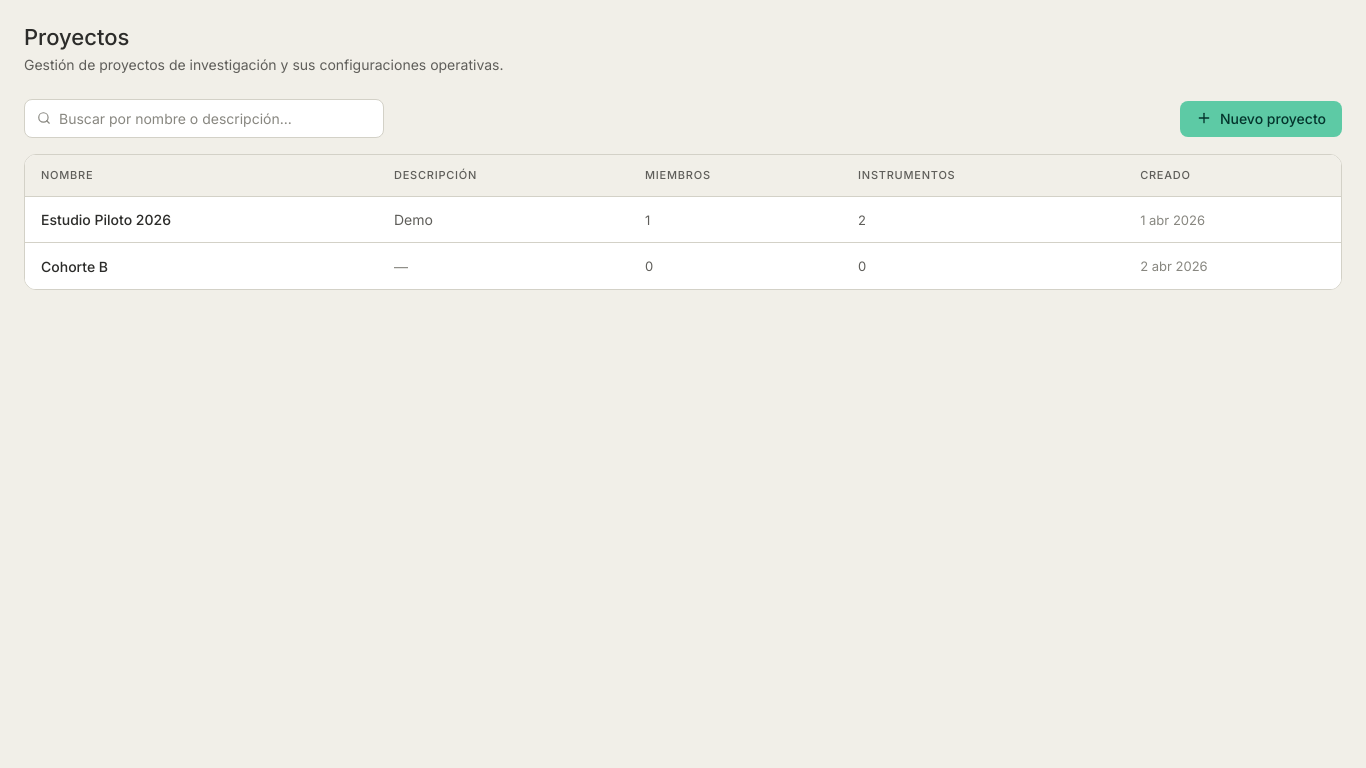
Test: ProjectsPage › seleccionar defaults + nombre → POST /projects y aparece en lista
Expected: the text "Estudio Piloto 2026" is shown, x1=41 y1=211 x2=171 y2=228
Click the button "Nuevo proyecto" at (1261, 119), box x1=1180 y1=101 x2=1342 y2=137
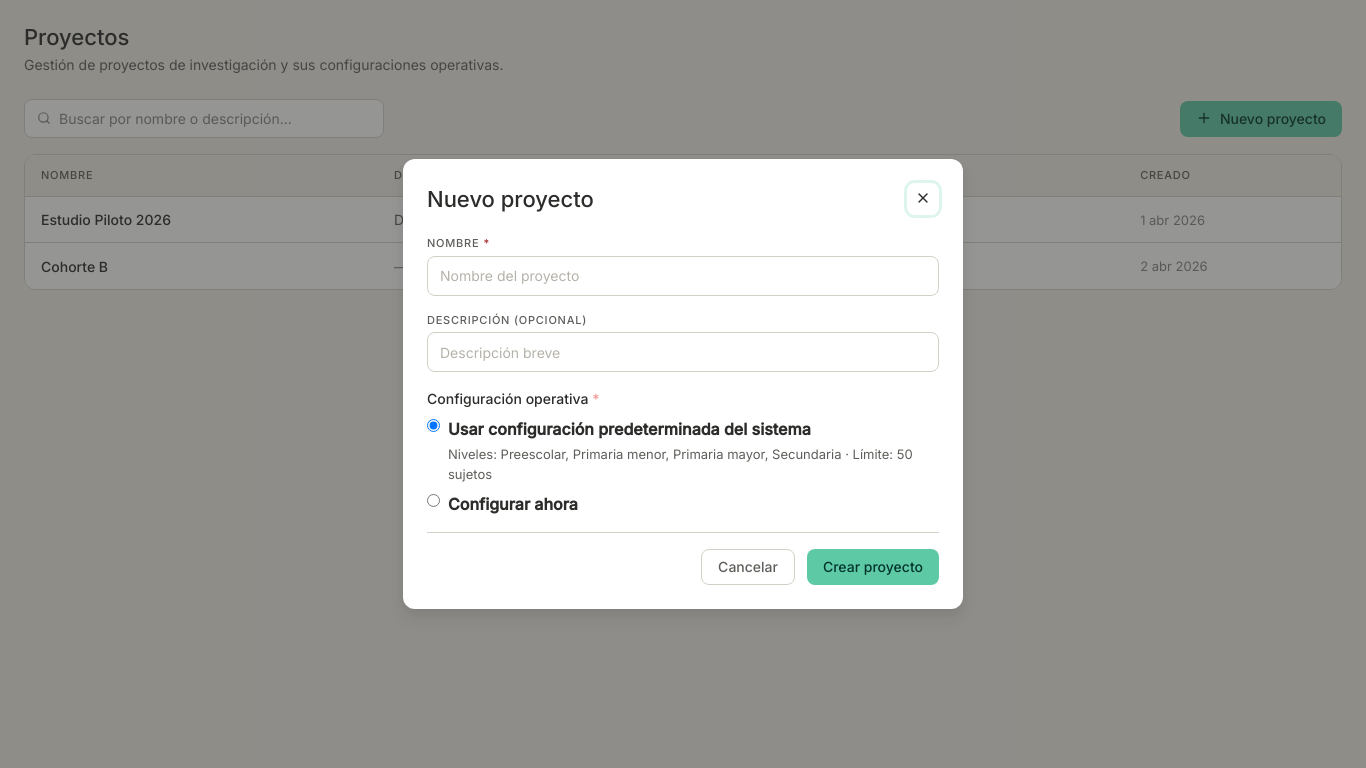
Now the dialog is shown, box x1=403 y1=159 x2=963 y2=609
Type "Test Proj" into the field labelled "Nombre*" at (683, 276), box x1=427 y1=256 x2=939 y2=296
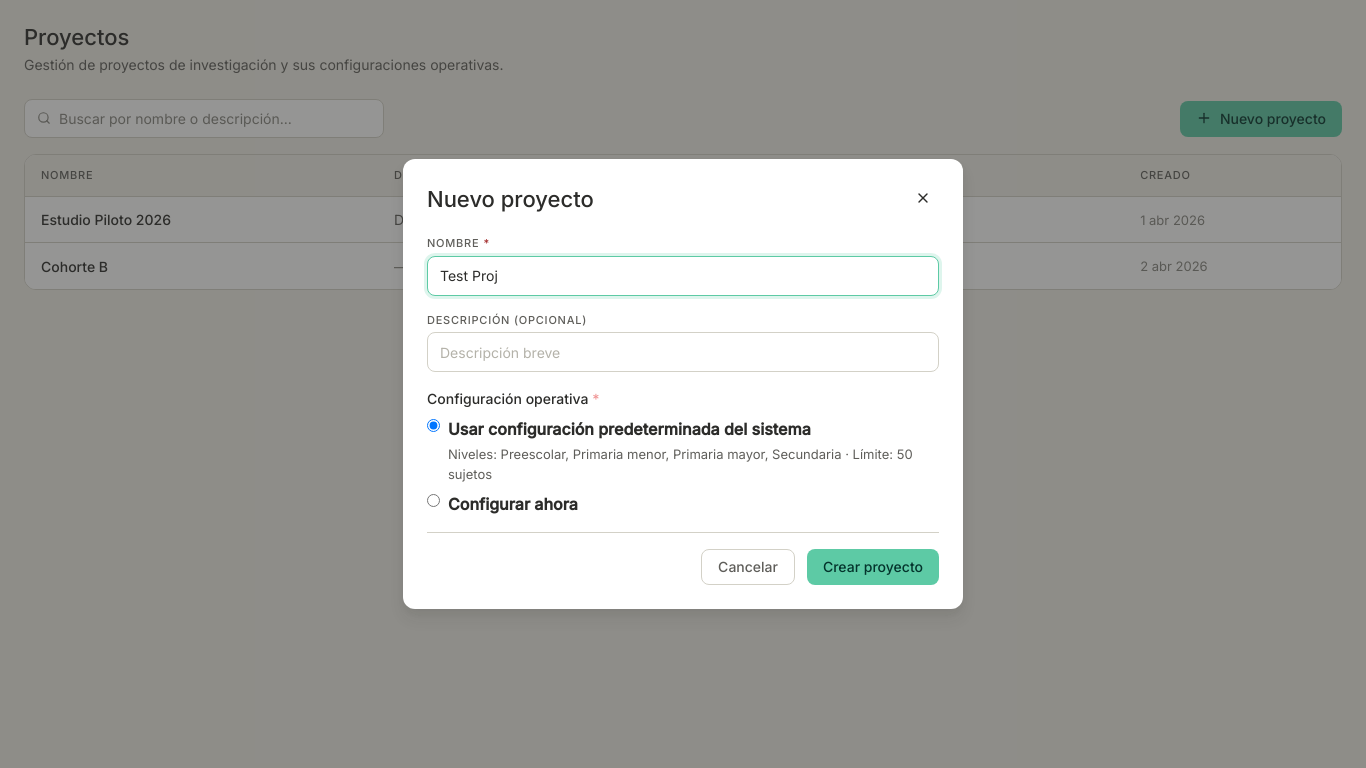
Click the radio button labelled "Usar configuración predeterminada" at (434, 426), box x1=427 y1=419 x2=440 y2=432
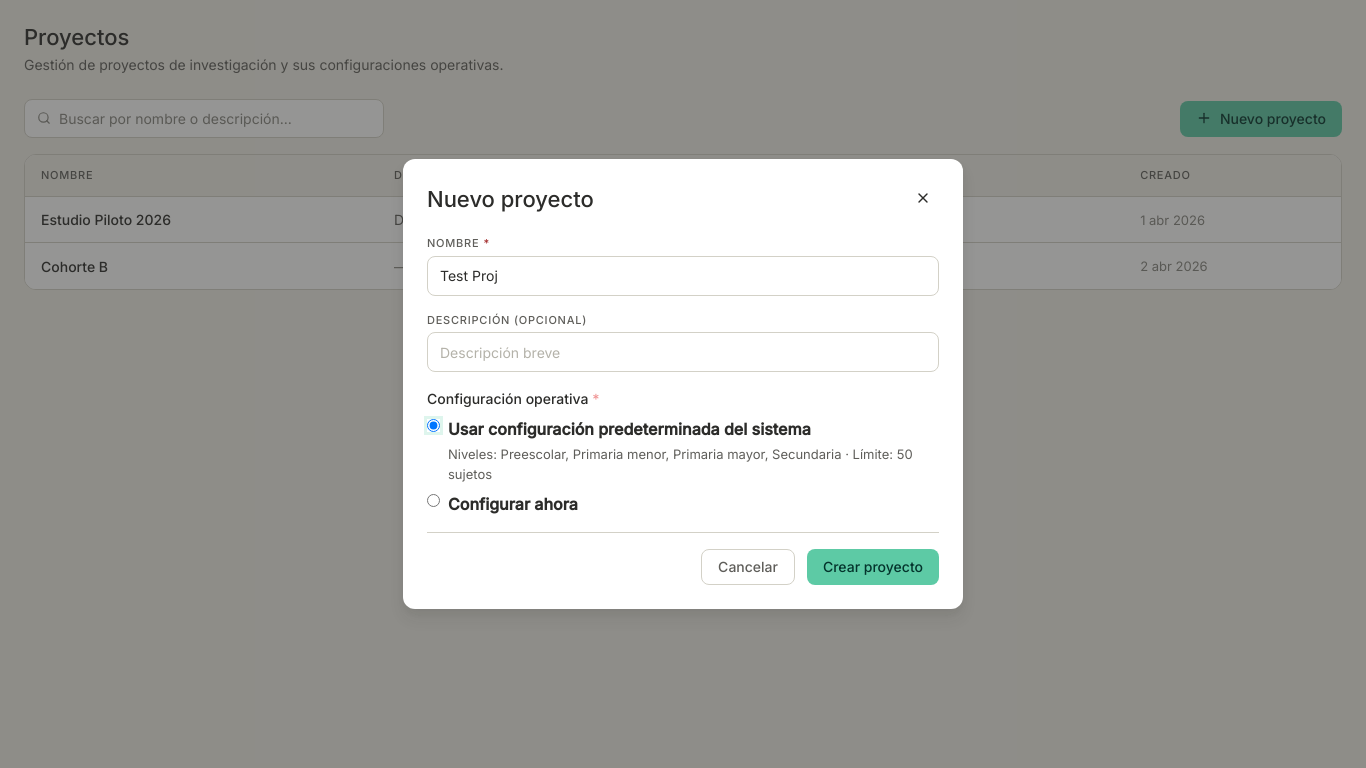
Click the button "Crear proyecto" at (873, 567), box x1=807 y1=549 x2=939 y2=585
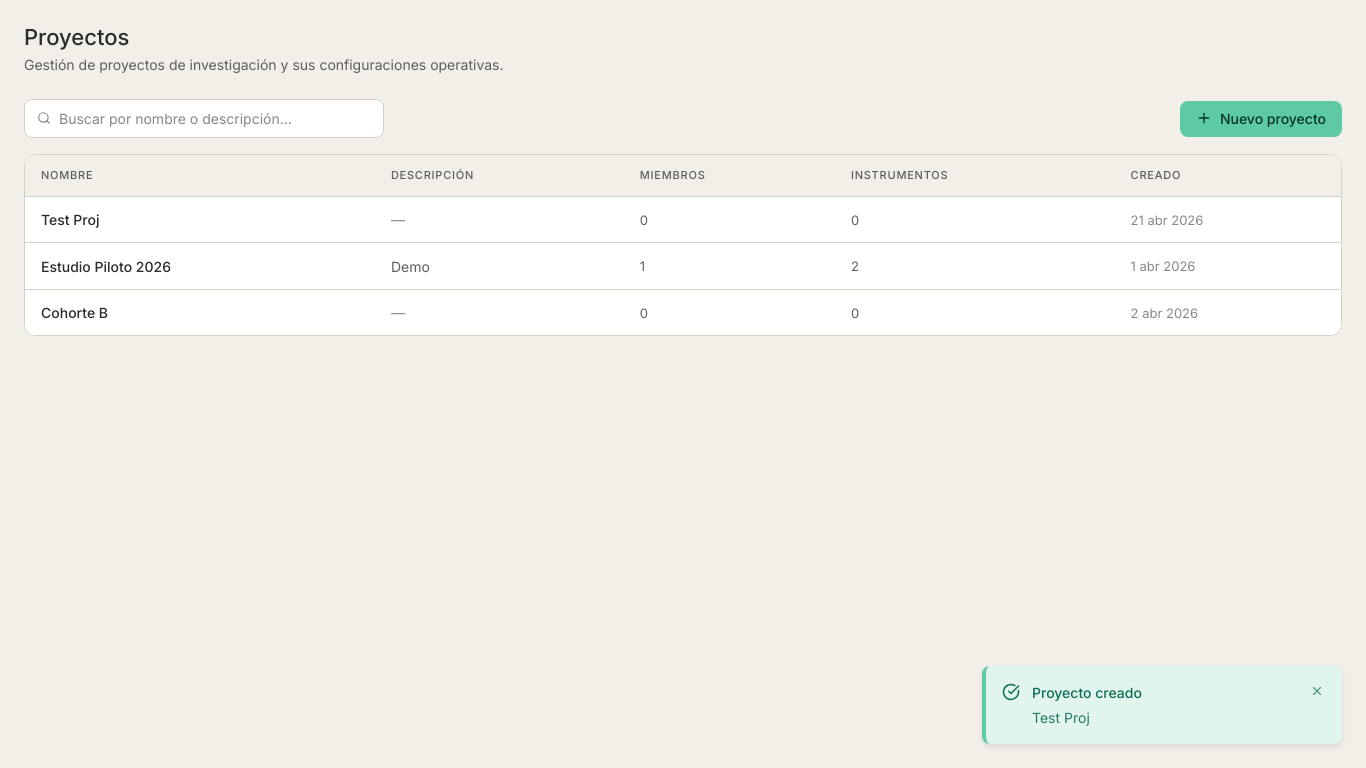
Now the dialog is gone
Now the text "Test Proj" in the row of "21 abr 2026" is shown, box x1=41 y1=211 x2=99 y2=228
